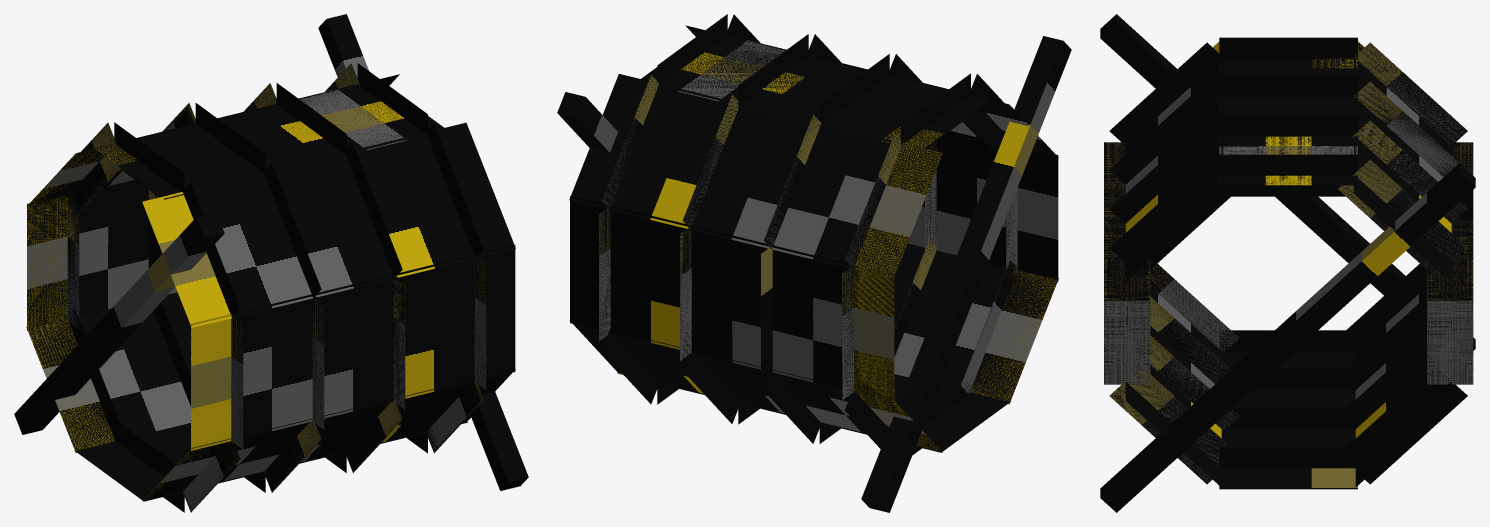
File: barbed_wire_acid.obj
3 renders of one model, left to right at view 1: azimuth 30°, elevation 25°; view 2: azimuth 150°, elevation 25°; view 3: azimuth 270°, elevation 25°, orthographic.
Parts seen in each view (by area): view 1: cube; view 2: cube; view 3: cube.
Part boxes in pixels (left/top/right/bottom): cube: left=14, top=14, right=528, bottom=512; cube: left=557, top=14, right=1071, bottom=512; cube: left=1100, top=14, right=1475, bottom=512.
Size of the model in its own units: 1 by 1.03 by 1.02.
